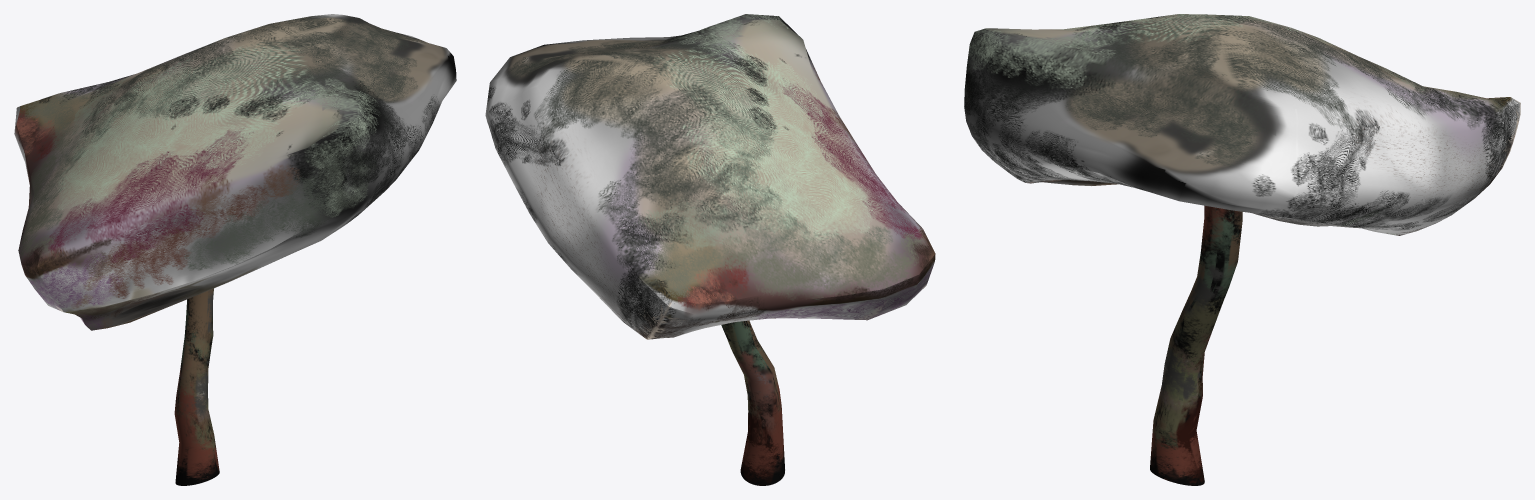
The model's file is Mushroom.fbx.
3 renders of one model, left to right at view 1: azimuth 30°, elevation 25°; view 2: azimuth 150°, elevation 25°; view 3: azimuth 270°, elevation 25°, orthographic. The views are drawn at different scales.
Visible parts, largest first — view 1: Cube.001, Cylinder; view 2: Cube.001, Cylinder; view 3: Cube.001, Cylinder.
Boxes of the visible parts, x1,y1,x2,y2 form: Cube.001: (14,14,456,330); Cylinder: (174,288,219,485); Cube.001: (485,14,935,339); Cylinder: (721,320,784,485); Cube.001: (964,14,1520,235); Cylinder: (1150,205,1242,485).
Size of the model in its own units: 3183 by 2904 by 2894.
Materials: 2 (2 with a texture image).
